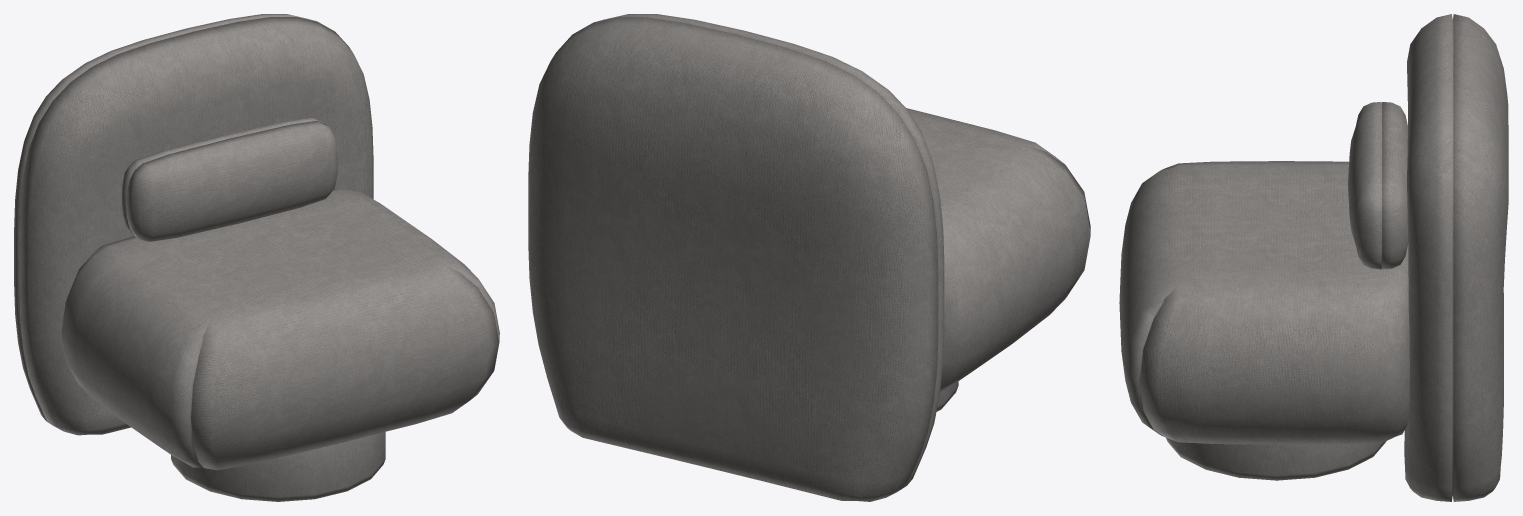
3 renders of one model, left to right at view 1: azimuth 30°, elevation 25°; view 2: azimuth 150°, elevation 25°; view 3: azimuth 270°, elevation 25°, orthographic. The views are drawn at different scales.
Parts seen in each view (by area): view 1: Armchair Koto Cozy Storm001; view 2: Armchair Koto Cozy Storm001; view 3: Armchair Koto Cozy Storm001.
Boxes of the visible parts, x1=… form: Armchair Koto Cozy Storm001: x1=14, y1=14, x2=499, y2=501; Armchair Koto Cozy Storm001: x1=528, y1=14, x2=1090, y2=501; Armchair Koto Cozy Storm001: x1=1119, y1=14, x2=1508, y2=501.
Bounding box in the file's own units: 1.03 × 1.02 × 0.9504.
1 material, 1 textured.
